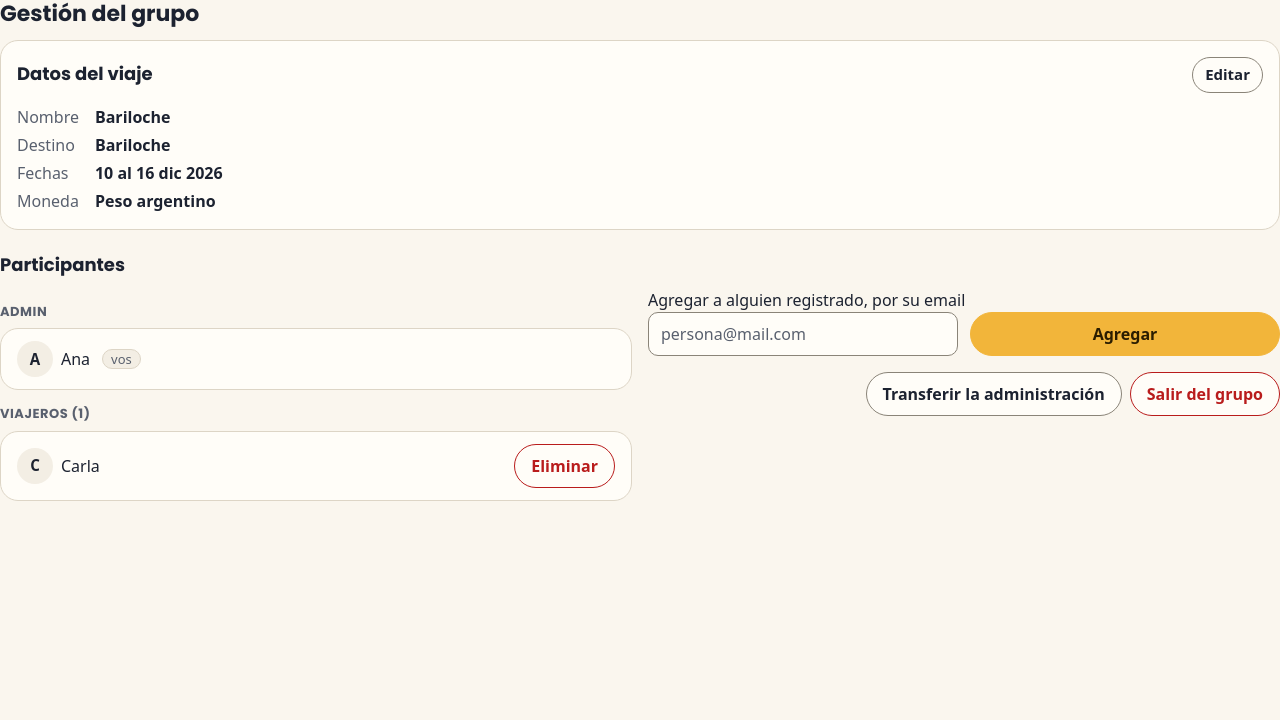
Test: ParticipantesVista › si la respuesta de eliminar se pierde, vuelve a pedir la lista para mostrar cómo quedó
Click the button with aria-label "Eliminar a Carla" at (565, 466), box [514,444,615,488]
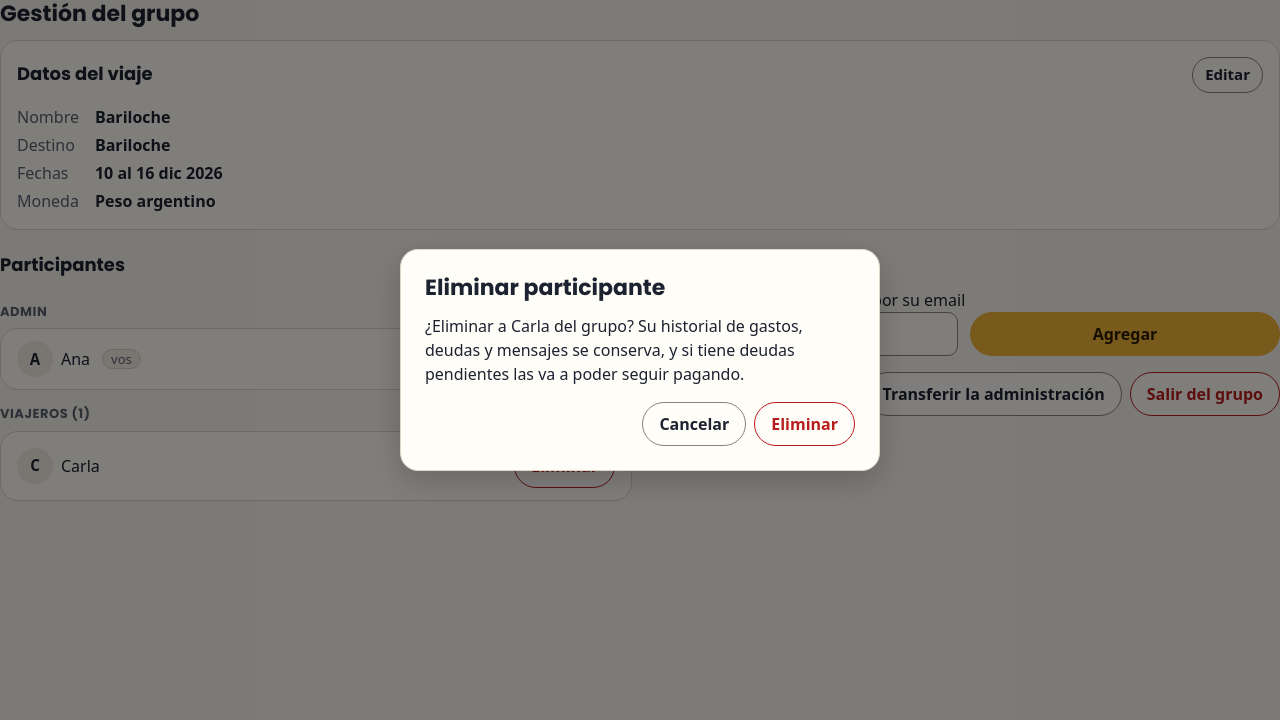
Click the button "Eliminar" at (805, 424), box [754,402,855,446]
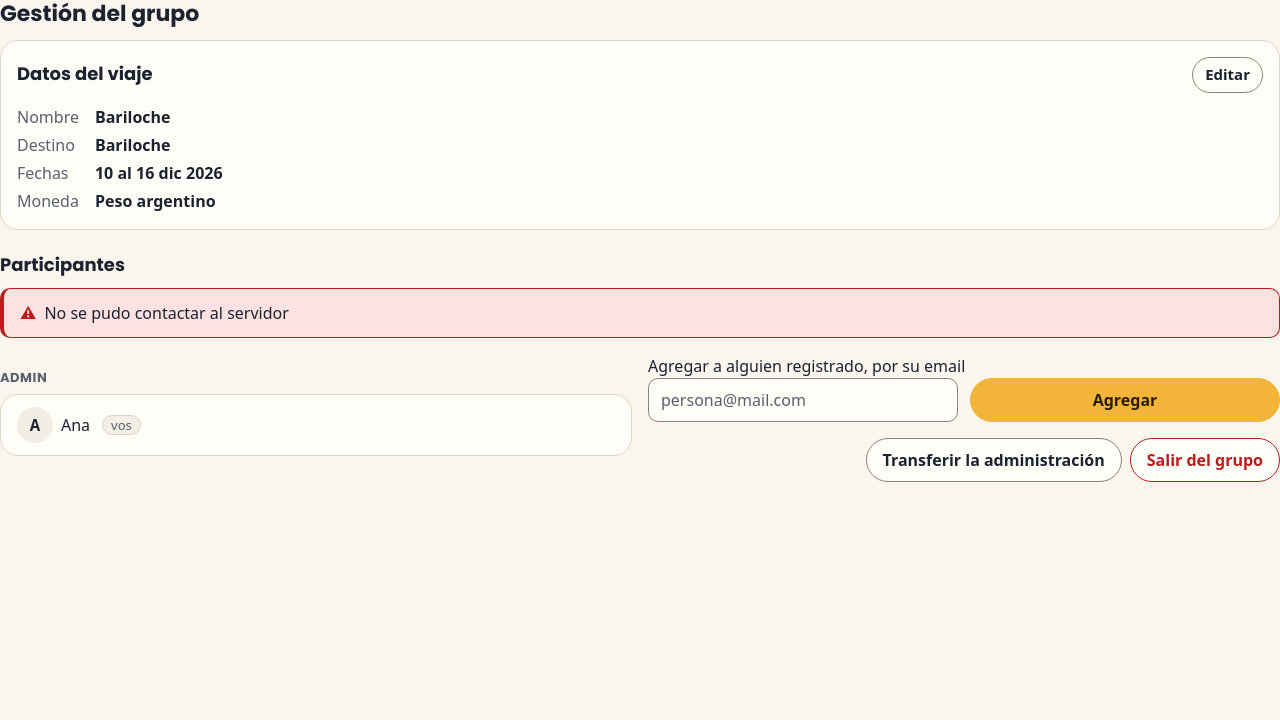
Result: the text "No se pudo contactar al servidor" is shown at [44,302,289,324]
